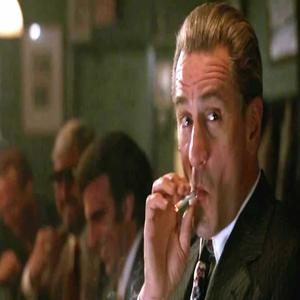cigarette: (172, 186, 202, 214)
